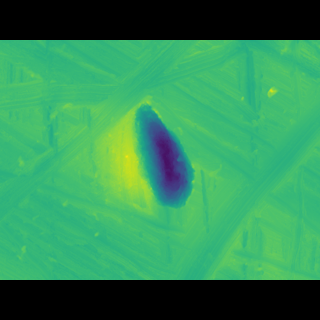Loch: (162, 111, 319, 248), (0, 70, 247, 128), (127, 110, 201, 198)
